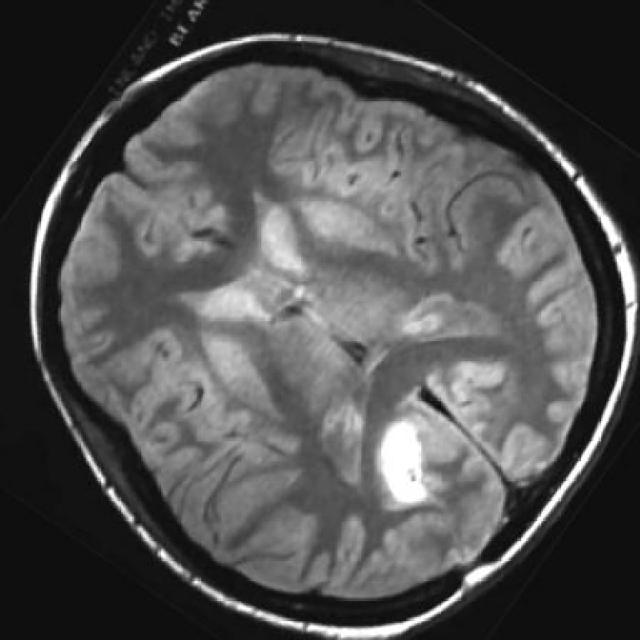Brain-Tumor: (378, 414, 440, 505)
